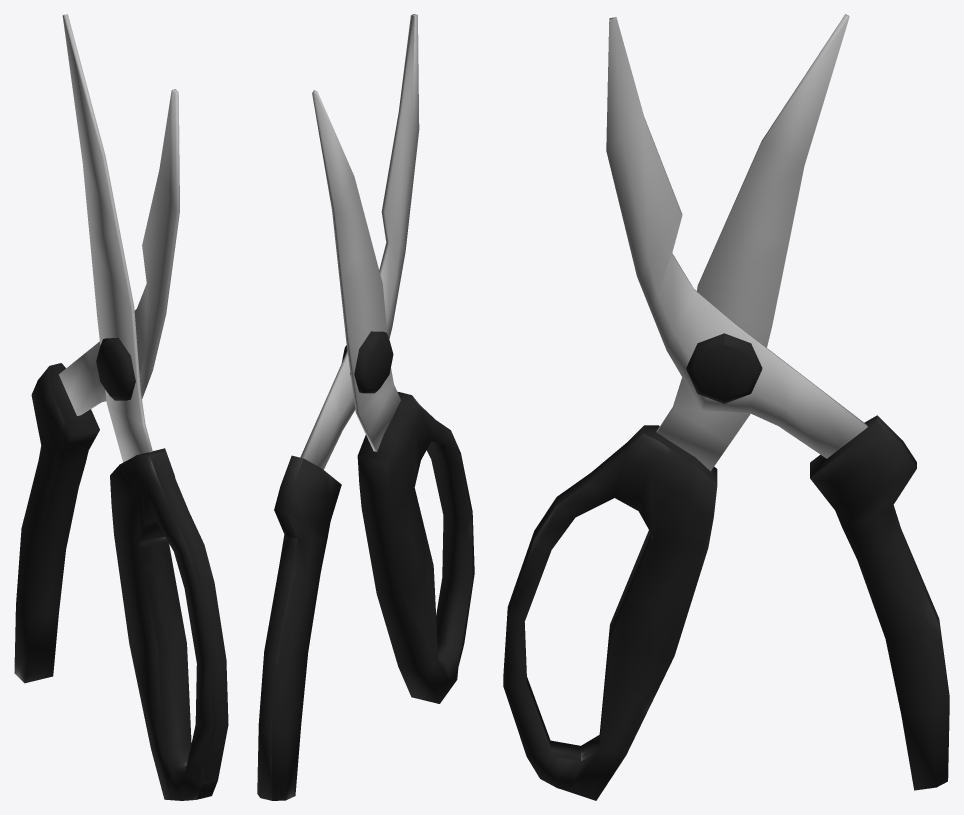
The model's file is scissors1.fbx.
3 views of the same model, side by side, from view 1: azimuth 30°, elevation 25°; view 2: azimuth 150°, elevation 25°; view 3: azimuth 270°, elevation 25° (orthographic). The views are drawn at different scales.
Visible parts, largest first — view 1: Meat Scissors_1; view 2: Meat Scissors_1; view 3: Meat Scissors_1.
Boxes of the visible parts, <box> form: Meat Scissors_1: <box>14,14,228,800</box>; Meat Scissors_1: <box>257,14,474,800</box>; Meat Scissors_1: <box>503,14,949,800</box>.
Bounding box in the file's own units: 24.71 × 520 × 271.
